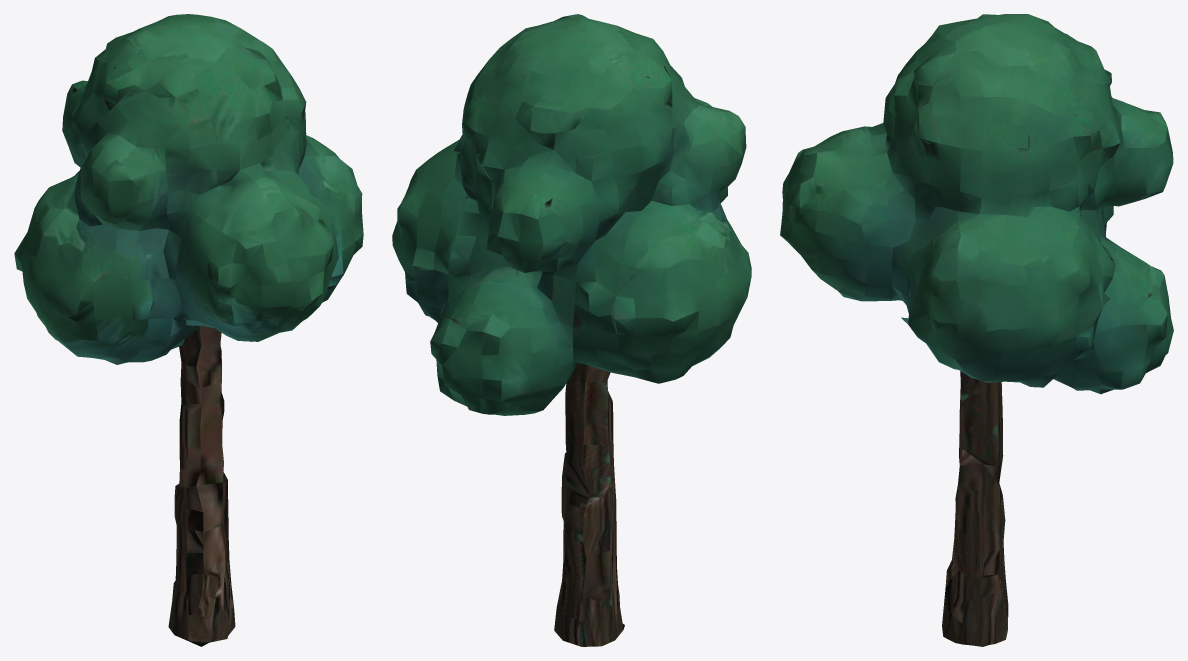
The model's file is bosque_arbol.glb.
3 views of the same model, side by side, from view 1: azimuth 30°, elevation 25°; view 2: azimuth 150°, elevation 25°; view 3: azimuth 270°, elevation 25° (orthographic). The views are drawn at different scales.
Visible parts, largest first — view 1: tripo_node_70aaf517-c2b0-47d4-be30-1122dee573f8; view 2: tripo_node_70aaf517-c2b0-47d4-be30-1122dee573f8; view 3: tripo_node_70aaf517-c2b0-47d4-be30-1122dee573f8.
Part boxes in pixels (x1,y1,x2,y2): tripo_node_70aaf517-c2b0-47d4-be30-1122dee573f8: (14, 14, 363, 646); tripo_node_70aaf517-c2b0-47d4-be30-1122dee573f8: (392, 14, 751, 646); tripo_node_70aaf517-c2b0-47d4-be30-1122dee573f8: (780, 14, 1173, 646).
Bounding box in the file's own units: 0.5478 × 0.998 × 0.5806.
1 material, 1 textured.
